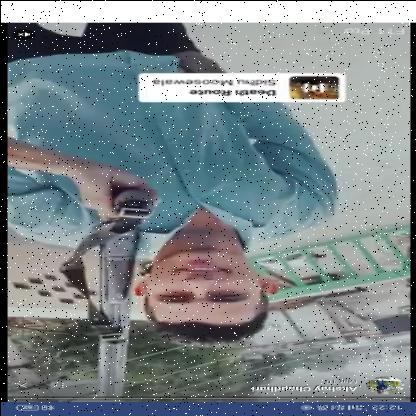rifle: (86, 182, 164, 399)
